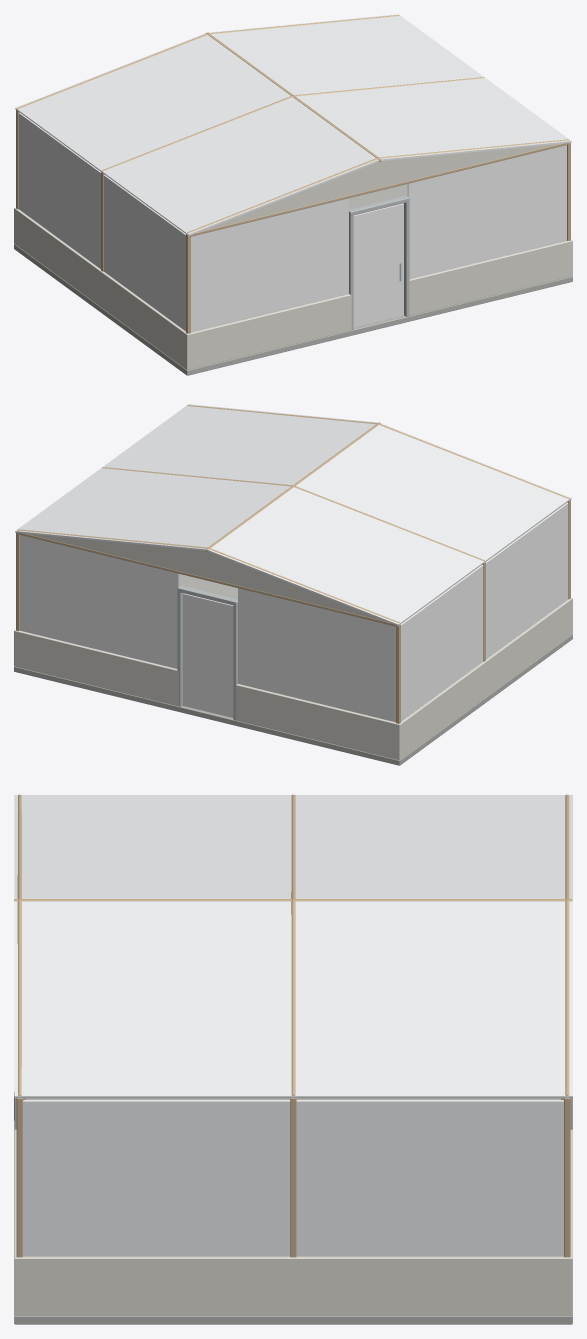
Rendered from camera-repair-and-darkroom-laboratory-roofed-camera-se-d838bda1__31768.glb.
3 views of the same model, one above another, from view 1: azimuth 30°, elevation 25°; view 2: azimuth 150°, elevation 25°; view 3: azimuth 270°, elevation 25° (orthographic). The views are drawn at different scales.
Parts seen in each view (by area): view 1: roofed-camera-service-shop; view 2: roofed-camera-service-shop; view 3: roofed-camera-service-shop.
Boxes of the visible parts, <box> form: roofed-camera-service-shop: <box>14,14,572,375</box>; roofed-camera-service-shop: <box>14,404,572,765</box>; roofed-camera-service-shop: <box>14,794,572,1324</box>.
Bounding box in the file's own units: 9 × 3.79 × 7.01.
